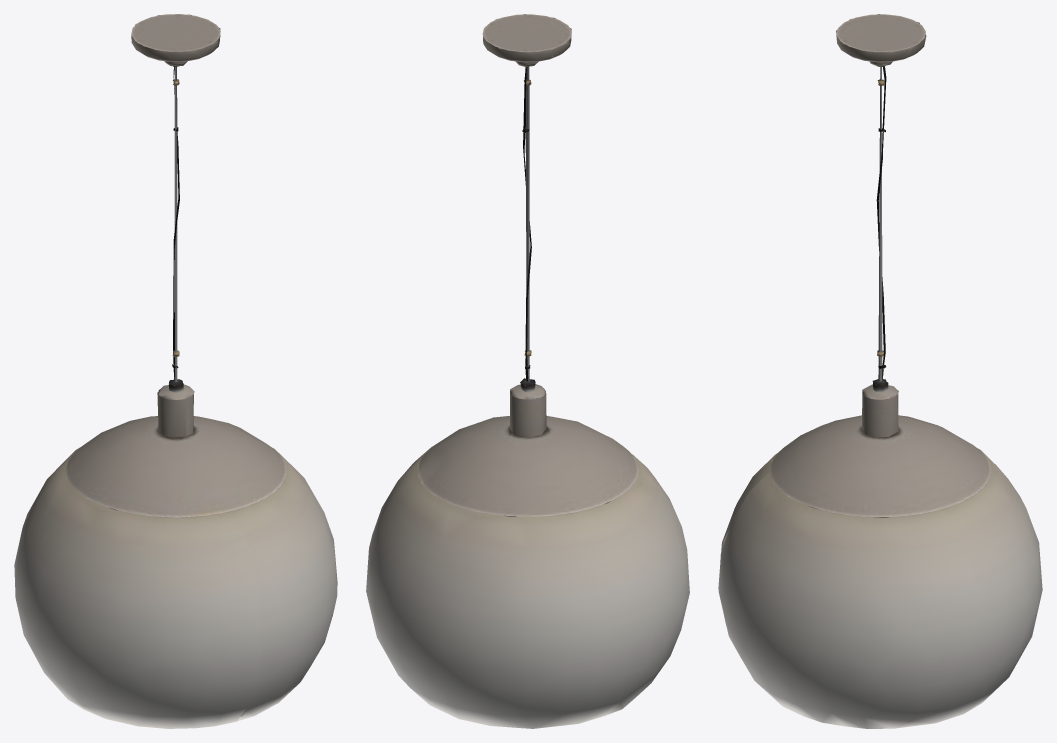
The model's file is modern_ceiling_lamp_01.gltf.
3 views of the same model, side by side, from view 1: azimuth 30°, elevation 25°; view 2: azimuth 150°, elevation 25°; view 3: azimuth 270°, elevation 25° (orthographic).
Visible parts, largest first — view 1: modern_ceiling_lamp_01; view 2: modern_ceiling_lamp_01; view 3: modern_ceiling_lamp_01.
Part boxes in pixels (bbox=[...]): modern_ceiling_lamp_01: bbox=[14, 14, 337, 728]; modern_ceiling_lamp_01: bbox=[366, 14, 689, 728]; modern_ceiling_lamp_01: bbox=[718, 14, 1042, 728].
Bounding box in the file's own units: 0.4321 × 0.952 × 0.4322.
Materials: 3 (3 with a texture image).
